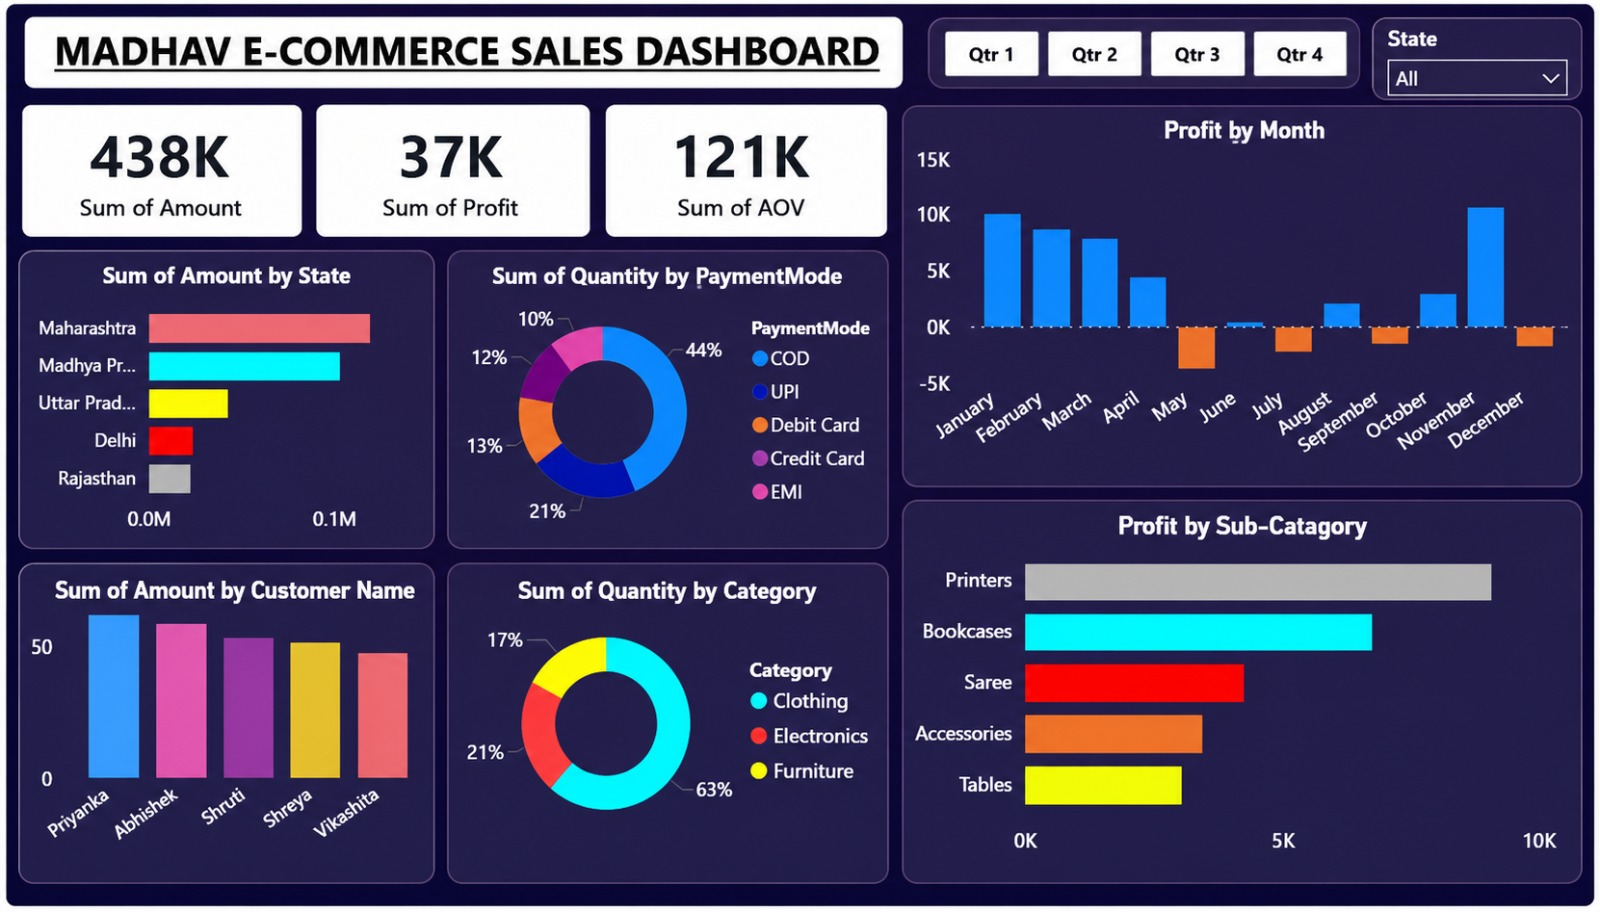

This screenshot's page, from the dashboard's own definition file:
{"tool":"powerbi","page":{"name":"Page 1","canvas":[1280,720],"ordinal":0},"visuals":[{"type":"textbox","box":[33.3,15,606.7,53.3],"z":0},{"type":"columnChart","title":"Profit by Month","fields":{"Y":["Sum(Details.Profit)"],"Category":["Orders.Order Date.Variation.Date Hierarchy.Month"]},"box":[710,98.3,546.7,298.3],"z":1000},{"type":"barChart","title":"Profit by Sub-Catagory","fields":{"Category":["Details.Sub-Category"],"Y":["Sum(Details.Profit)"]},"box":[710,413.3,546.7,283.3],"z":2000},{"type":"donutChart","fields":{"Category":["Details.Category"],"Y":["Sum(Details.Quantity)"]},"box":[348.3,466.7,346.7,230],"z":3000},{"type":"donutChart","fields":{"Y":["Sum(Details.Quantity)"],"Category":["Details.PaymentMode"]},"box":[348.3,208.3,346.7,240],"z":4000},{"type":"barChart","title":"Sum of Amount by State","fields":{"Y":["Sum(Details.Amount)"],"Category":["Orders.State"]},"box":[10,208.3,326.7,240],"z":5000},{"type":"columnChart","title":"Sum of Amount by Customer Name","fields":{"Category":["Orders.Customer Name"],"Y":["Sum(Details.Quantity)"]},"box":[10,466.7,326.7,230],"z":6000},{"type":"cardVisual","fields":{"Data":["Sum(Details.Amount)"]},"box":[21.7,83.3,195,108.3],"z":7000},{"type":"cardVisual","fields":{"Data":["Sum(Details.Profit)"]},"box":[261.7,81.7,195,108.3],"z":8000},{"type":"cardVisual","fields":{"Data":["Sum(Details.AOV)"]},"box":[498.3,81.7,195,108.3],"z":9000},{"type":"slicer","fields":{"Values":["Orders.Order Date.Variation.Date Hierarchy.Quarter"]},"box":[666.7,15,416.7,53.3],"z":10000},{"type":"slicer","fields":{"Values":["Orders.State"]},"box":[1096.7,15,160,68.3],"z":10001}]}

Visuals, with their boxes in screenshot pixels (x1, y1, x2, y2), scaled from the page's 1280x720 canvas onto the 1600x912 screenshot:
textbox: (42, 19, 800, 87)
"Profit by Month" columnChart: (888, 125, 1571, 502)
"Profit by Sub-Catagory" barChart: (888, 524, 1571, 882)
donutChart - Details.Category x Sum(Details.Quantity): (435, 591, 869, 882)
donutChart - Sum(Details.Quantity) x Details.PaymentMode: (435, 264, 869, 568)
"Sum of Amount by State" barChart: (12, 264, 421, 568)
"Sum of Amount by Customer Name" columnChart: (12, 591, 421, 882)
cardVisual - Sum(Details.Amount): (27, 106, 271, 243)
cardVisual - Sum(Details.Profit): (327, 103, 571, 241)
cardVisual - Sum(Details.AOV): (623, 103, 867, 241)
slicer - Orders.Order Date.Variation.Date Hierarchy.Quarter: (833, 19, 1354, 87)
slicer - Orders.State: (1371, 19, 1571, 106)
